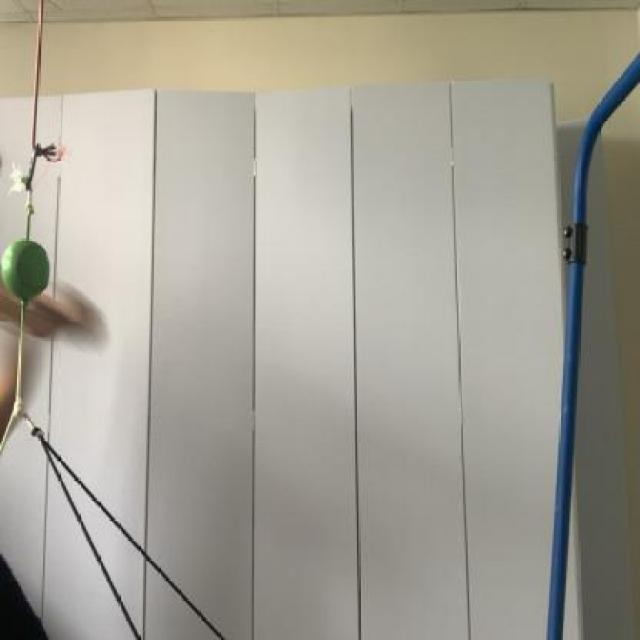baseball: (0, 226, 55, 311)
